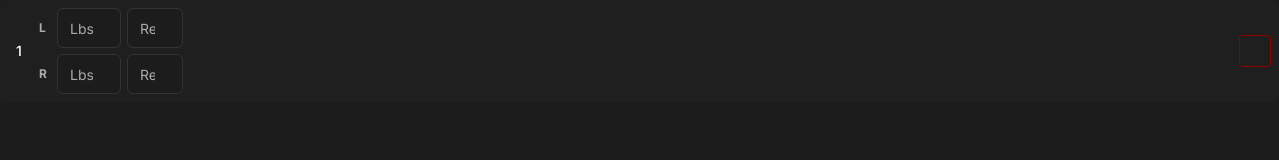
Test case: unilateral set entry › accepts reps as well as weight
Reps carry the recommendation as placeholder text, hence "Reps" when absent.
Click the 1st number field with placeholder "Reps": (155, 28) [127, 8, 183, 48]
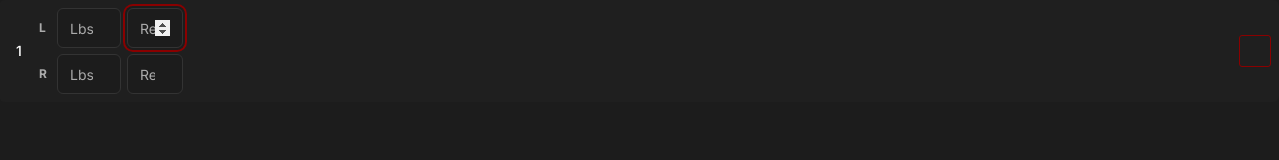
Type keys "16"
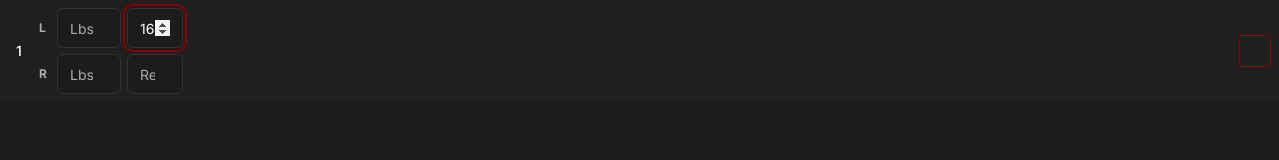
Check: the number field with placeholder "Reps" holds "16", box [127, 8, 183, 48]
